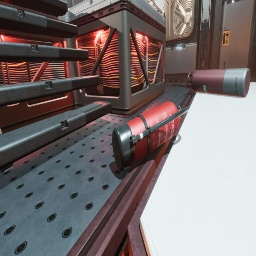EmergencyPhone ,: (221, 27, 230, 46)
FireExtinguisher ]: (112, 101, 188, 171)
NitrogenTank ,: (187, 68, 250, 97)
